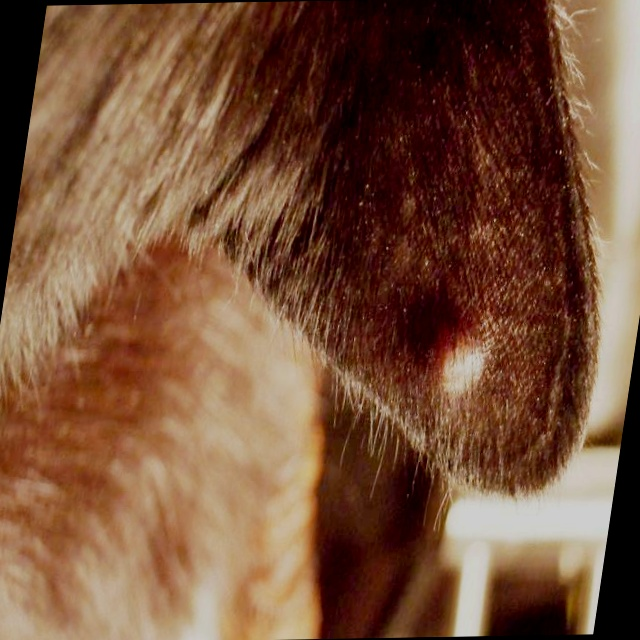lump_and_bump: (419, 339, 488, 402)
